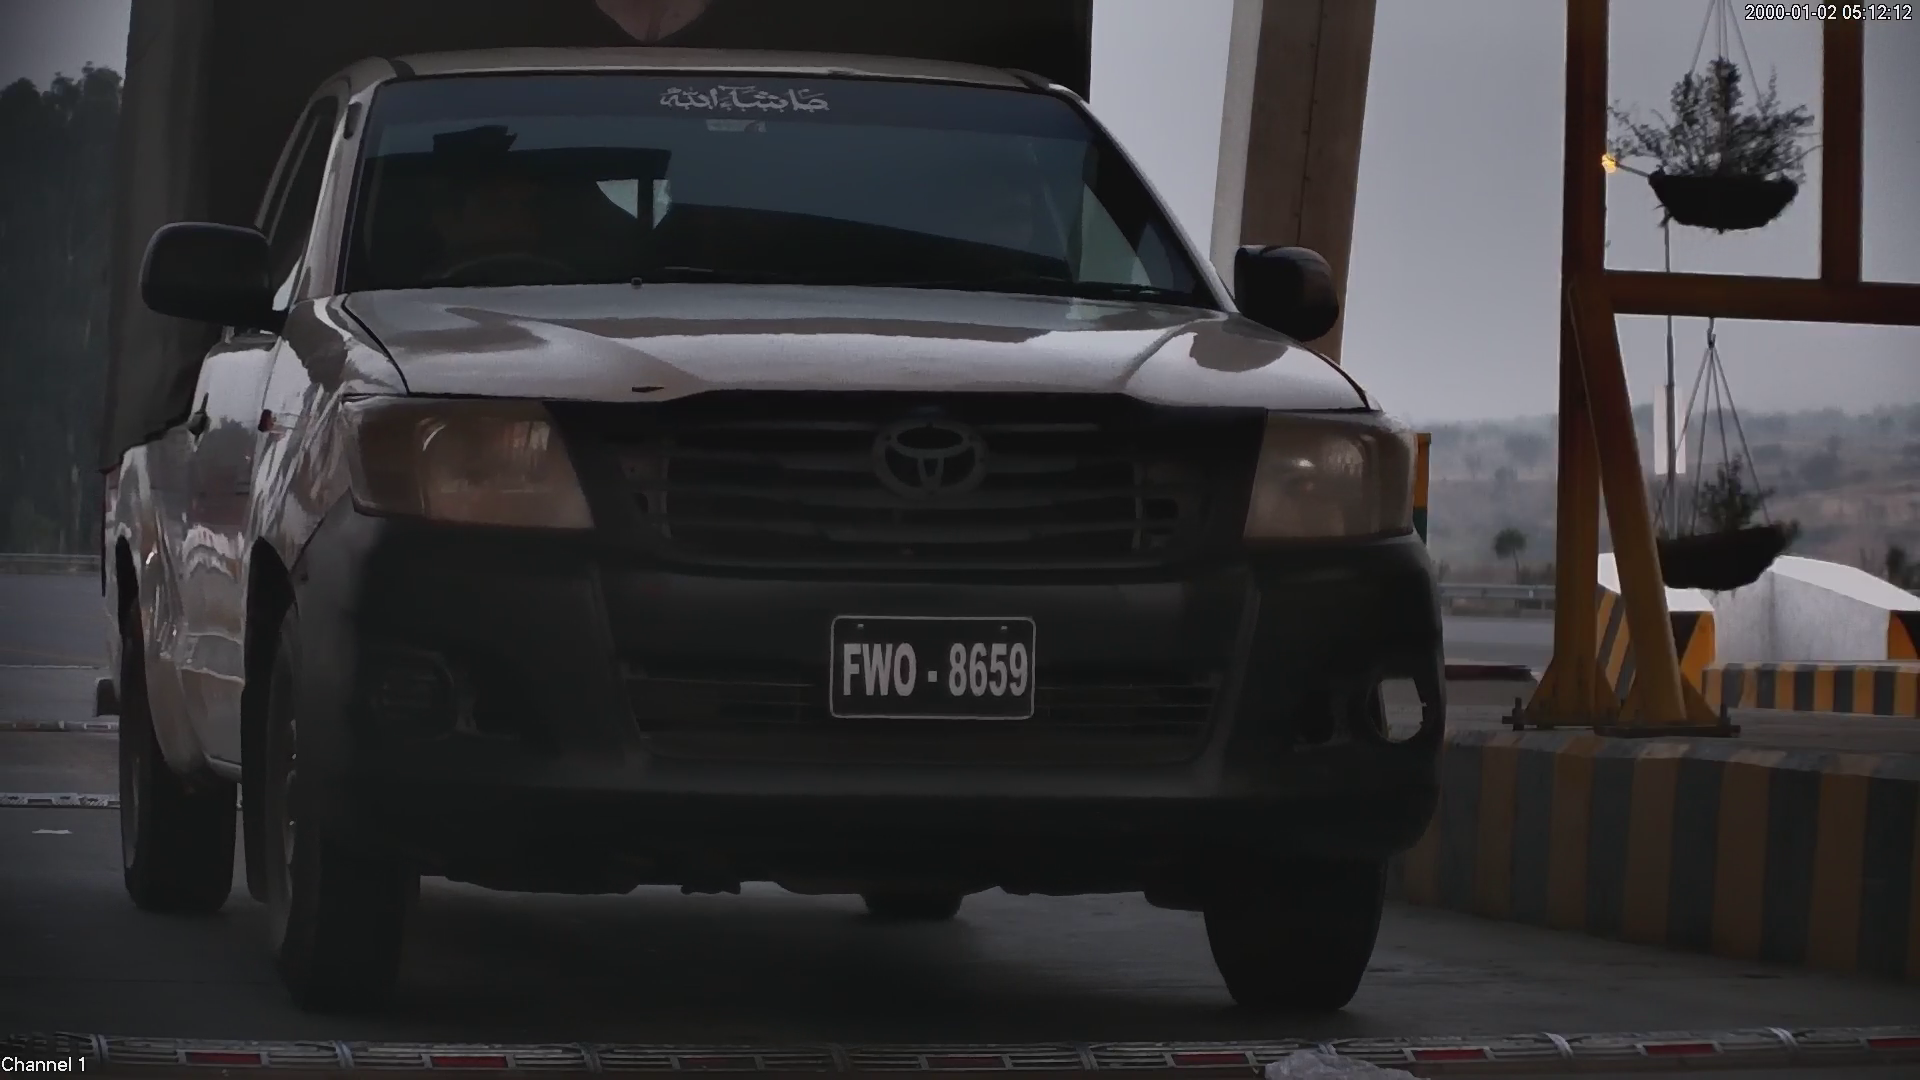Number_Plate: (819, 600, 1045, 737)
